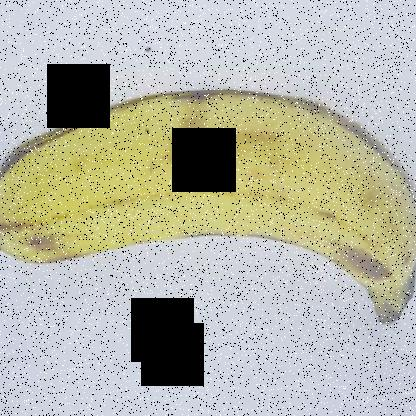ripe: (0, 81, 415, 329)
